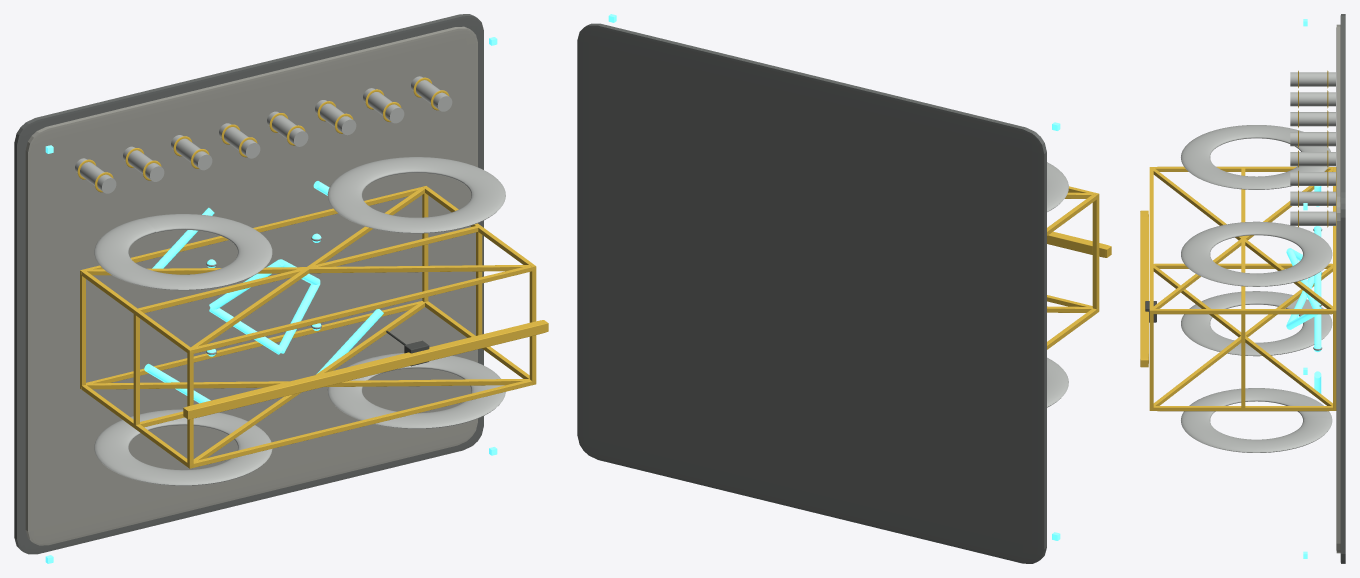
Rendered from b-28-quantum-lab-lod1.glb.
3 renders of one model, left to right at view 1: azimuth 30°, elevation 25°; view 2: azimuth 150°, elevation 25°; view 3: azimuth 270°, elevation 25°, orthographic. The views are drawn at different scales.
Parts seen in each view (by area): view 1: foundation_inner_pad, foundation, primary_quantum_ring_3, primary_quantum_ring_2, primary_quantum_ring_0, quantum_service_crane_bridge, primary_quantum_ring_1, quantum_service_crane_brace_a_-2.1, quantum_service_crane_beam_x_2_n, quantum_service_crane_beam_x_2_s, quantum_service_crane_beam_x_1_n, quantum_service_crane_brace_a_2.1 (+21 smaller); view 2: foundation, quantum_service_crane_beam_y_2_w, quantum_service_crane_bridge, primary_quantum_ring_0, primary_quantum_ring_2; view 3: primary_quantum_ring_3, primary_quantum_ring_1, primary_quantum_ring_2, primary_quantum_ring_0, foundation, foundation_inner_pad, quantum_service_crane_bridge, quantum_service_crane_brace_b_-2.1, quantum_service_crane_brace_a_-2.1, quantum_service_crane_brace_b_2.1, quantum_service_crane_column_e_n, quantum_service_crane_column_e_s (+18 smaller).
Part boxes in pixels (x1,y1,x2,y2): foundation_inner_pad: [25, 26, 477, 545]; foundation: [14, 14, 483, 554]; primary_quantum_ring_3: [327, 157, 505, 233]; primary_quantum_ring_2: [94, 214, 272, 290]; primary_quantum_ring_0: [94, 409, 272, 485]; quantum_service_crane_bridge: [183, 320, 548, 419]; primary_quantum_ring_1: [327, 353, 505, 428]; quantum_service_crane_brace_a_-2.1: [86, 379, 529, 389]; quantum_service_crane_beam_x_2_n: [187, 265, 536, 354]; quantum_service_crane_beam_x_2_s: [187, 379, 536, 468]; quantum_service_crane_beam_x_1_n: [133, 226, 478, 314]; quantum_service_crane_brace_a_2.1: [86, 265, 529, 275]; foundation: [577, 23, 1046, 563]; quantum_service_crane_beam_y_2_w: [1092, 192, 1099, 309]; quantum_service_crane_bridge: [1047, 231, 1111, 257]; primary_quantum_ring_0: [1047, 357, 1068, 407]; primary_quantum_ring_2: [1047, 162, 1068, 211]; primary_quantum_ring_3: [1181, 221, 1332, 286]; primary_quantum_ring_1: [1181, 388, 1332, 452]; primary_quantum_ring_2: [1181, 125, 1330, 189]; primary_quantum_ring_0: [1181, 291, 1332, 356]; foundation: [1340, 14, 1345, 563]; foundation_inner_pad: [1336, 24, 1340, 553]; quantum_service_crane_bridge: [1140, 210, 1148, 367]; quantum_service_crane_brace_b_-2.1: [1153, 265, 1332, 405]; quantum_service_crane_brace_a_-2.1: [1153, 265, 1332, 405]; quantum_service_crane_brace_b_2.1: [1153, 168, 1332, 308]; quantum_service_crane_column_e_n: [1153, 309, 1333, 314]; quantum_service_crane_column_e_s: [1153, 406, 1333, 411].
Size of what is drawn, in the model's own units: 18 by 16 by 8.07.
